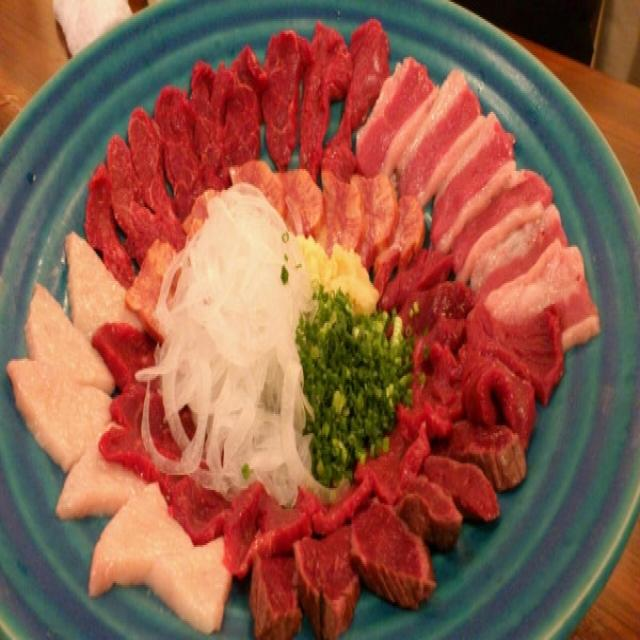刺身生食: (5, 8, 628, 624)
